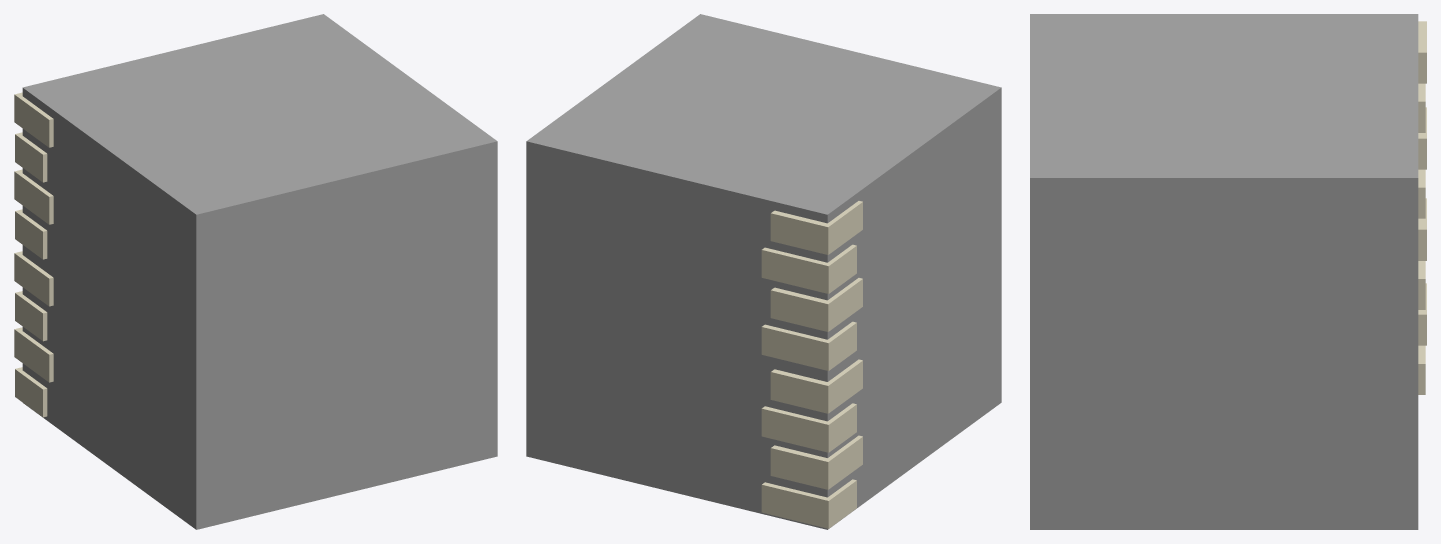
The model's file is Wall_Corner_Right.fbx.
3 renders of one model, left to right at view 1: azimuth 30°, elevation 25°; view 2: azimuth 150°, elevation 25°; view 3: azimuth 270°, elevation 25°, orthographic. The views are drawn at different scales.
Visible parts, largest first — view 1: polySurface26; view 2: polySurface26; view 3: polySurface26.
Boxes of the visible parts, <box> form: polySurface26: <box>14,14,497,529</box>; polySurface26: <box>526,14,1001,529</box>; polySurface26: <box>1030,14,1426,529</box>.
Size of the model in its own units: 406 by 400 by 409.
